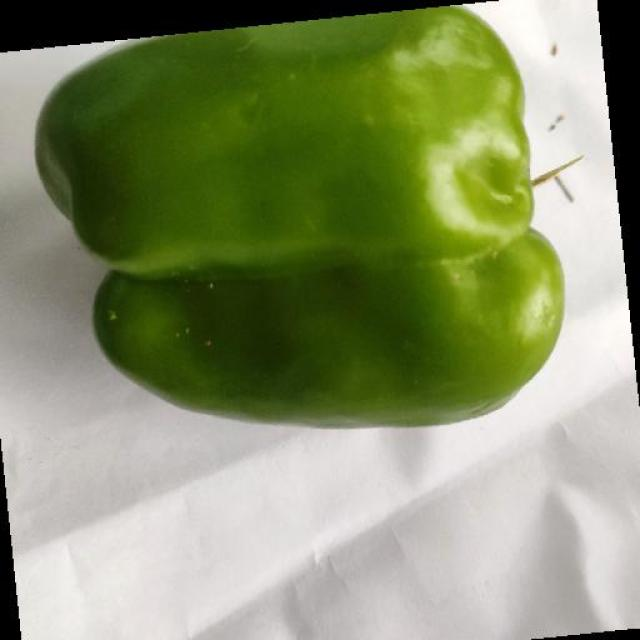Fresh_Capsicum: (21, 34, 616, 417)
